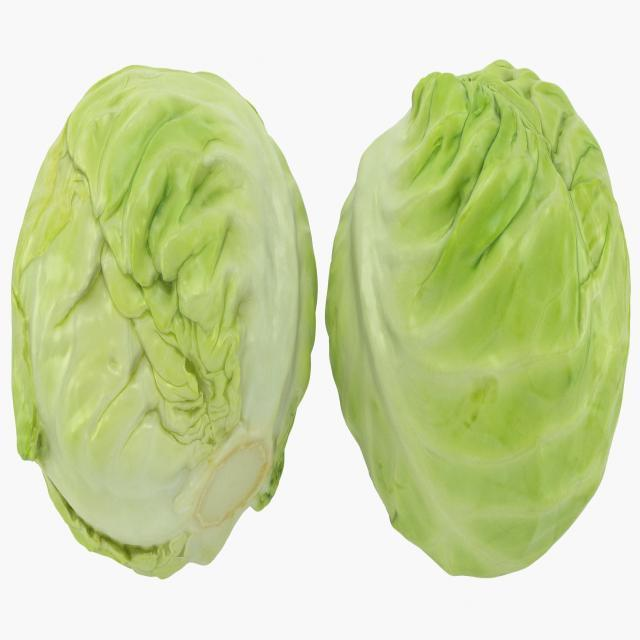cabbage: (9, 40, 317, 582), (322, 57, 633, 585)
